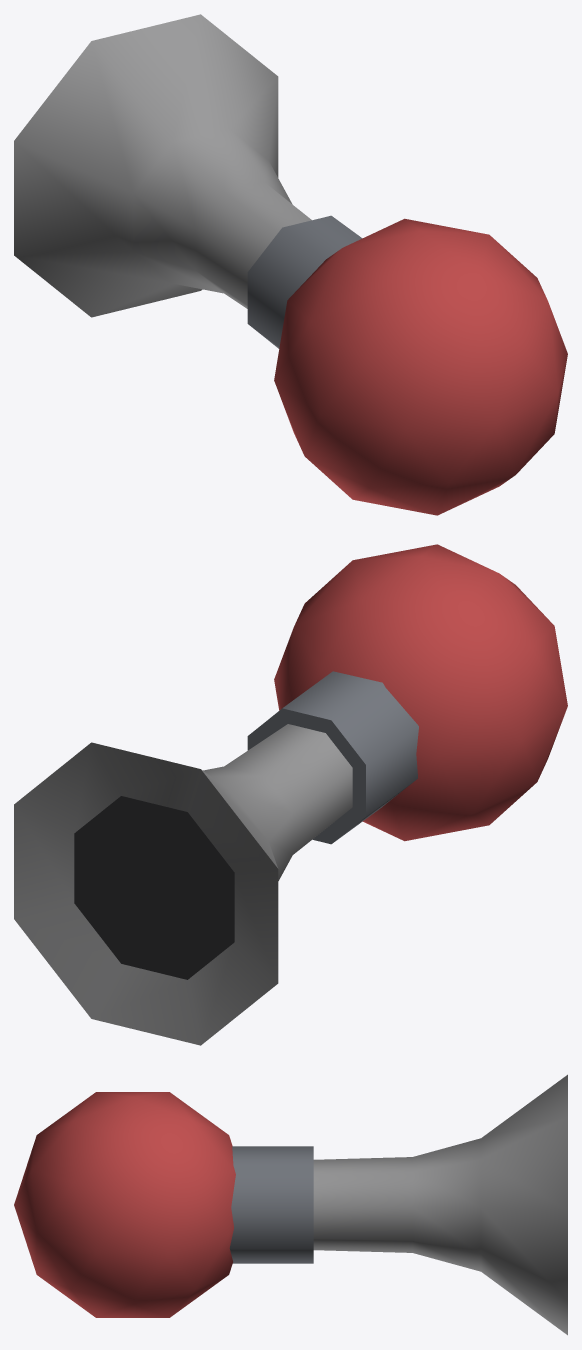
The model's file is BikeHorn.fbx.
The picture shows the model from 3 angles, top to bottom: view 1: azimuth 30°, elevation 25°; view 2: azimuth 150°, elevation 25°; view 3: azimuth 270°, elevation 25°; orthographic projection. The views are drawn at different scales.
Parts seen in each view (by area): view 1: BikeHorn; view 2: BikeHorn; view 3: BikeHorn.
Part boxes in pixels (left/top/right/bottom): BikeHorn: left=14, top=14, right=567, bottom=515; BikeHorn: left=14, top=544, right=567, bottom=1045; BikeHorn: left=14, top=1074, right=567, bottom=1335.
Bounding box in the file's own units: 0.1312 × 0.1312 × 0.301.
